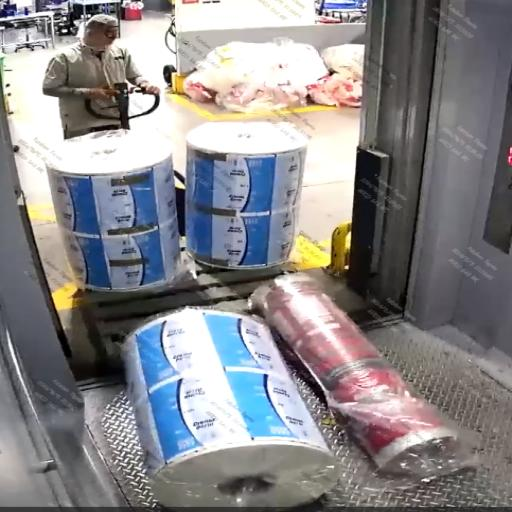rollos caidos: (50, 138, 482, 508)
